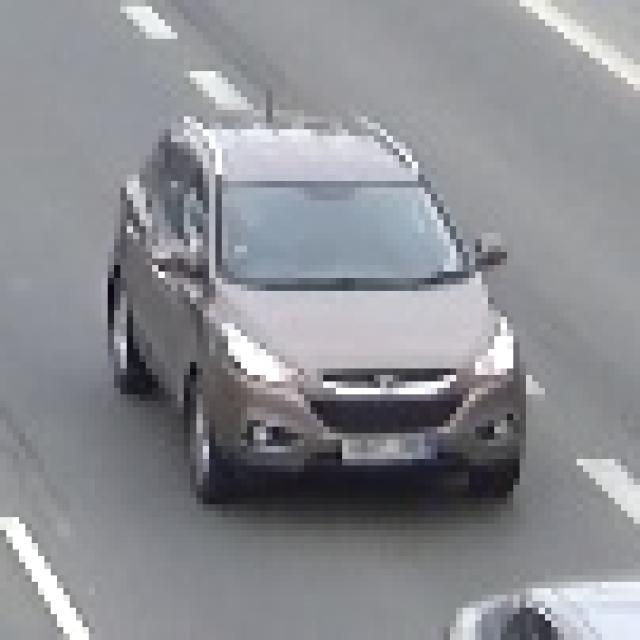SUV: (142, 126, 503, 497)
